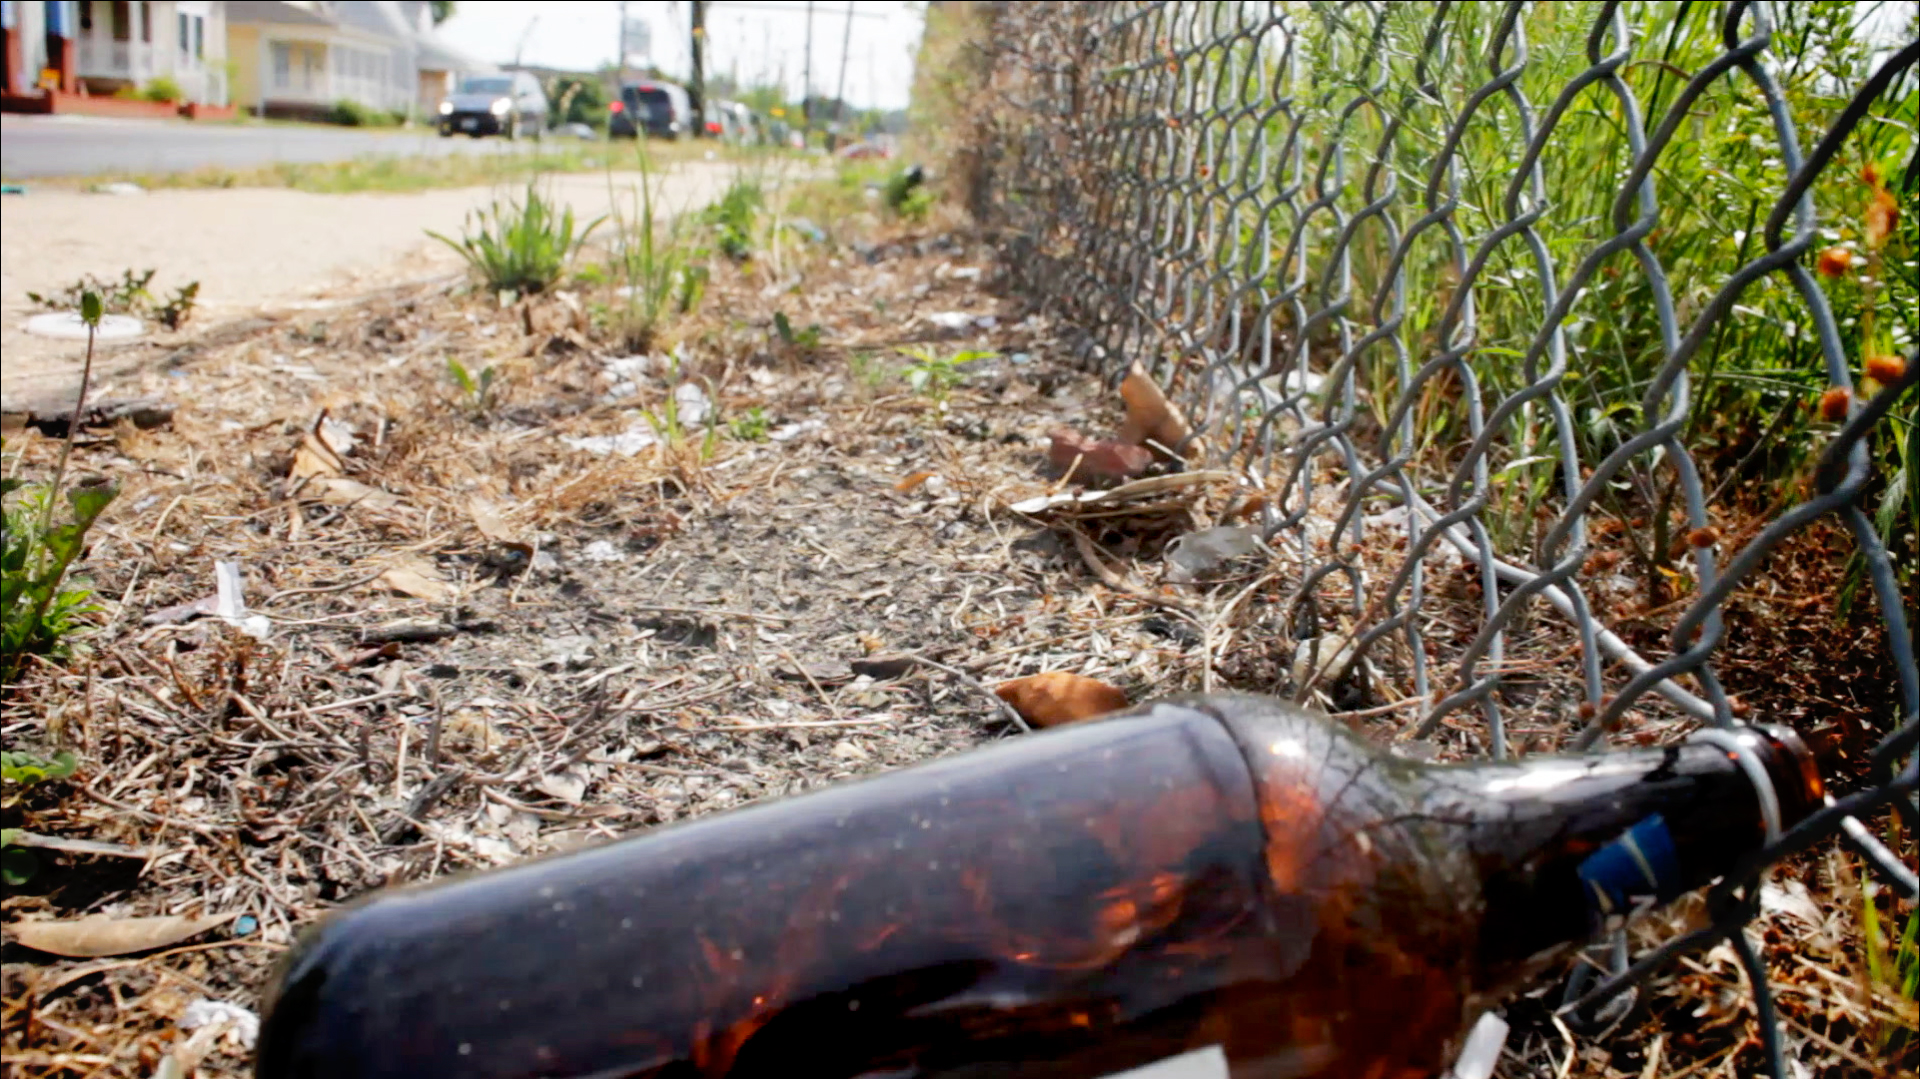bottle: (237, 679, 1832, 1079)
